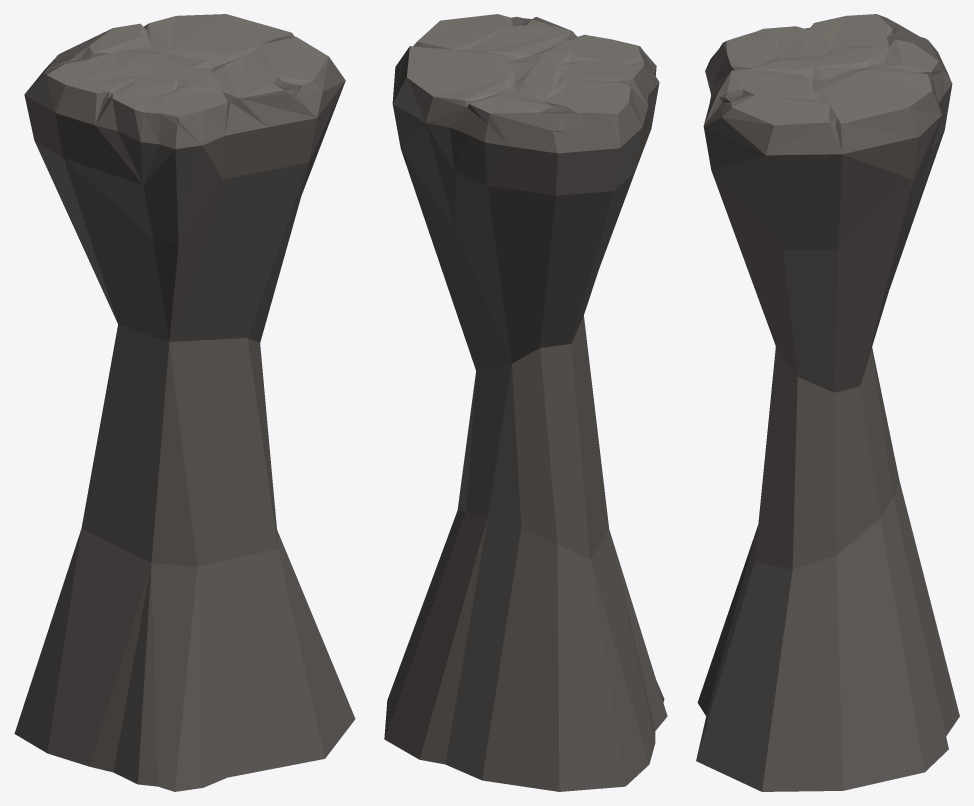
File: SM_Env_Rock_Flat_Platform_05.glb
3 renders of one model, left to right at view 1: azimuth 30°, elevation 25°; view 2: azimuth 150°, elevation 25°; view 3: azimuth 270°, elevation 25°, orthographic.
Visible parts, largest first — view 1: SM_Env_Rock_Flat_Platform_05; view 2: SM_Env_Rock_Flat_Platform_05; view 3: SM_Env_Rock_Flat_Platform_05.
Boxes of the visible parts, <box> form: SM_Env_Rock_Flat_Platform_05: <box>14,14,355,791</box>; SM_Env_Rock_Flat_Platform_05: <box>384,14,667,791</box>; SM_Env_Rock_Flat_Platform_05: <box>696,14,959,791</box>.
Bounding box in the file's own units: 0.0258 × 0.0604 × 0.022.
1 material, 1 textured.
